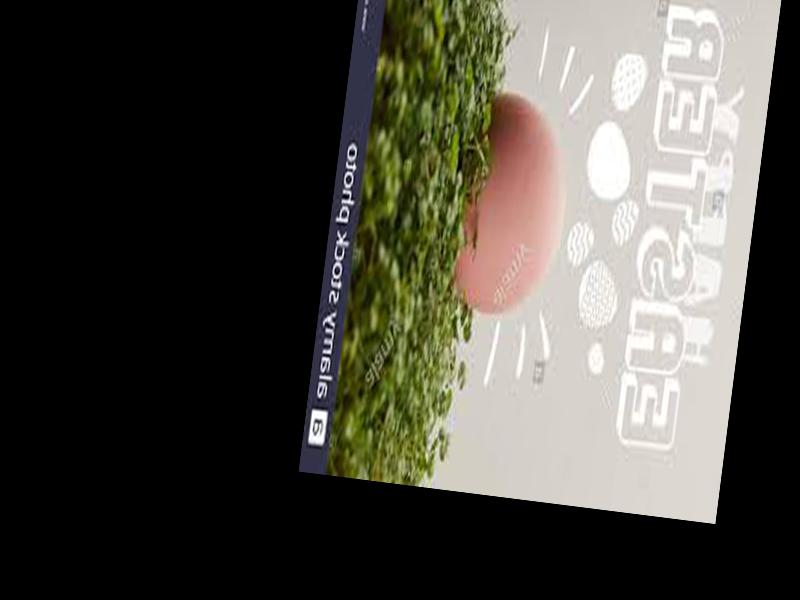Eggs: (449, 85, 577, 317)
